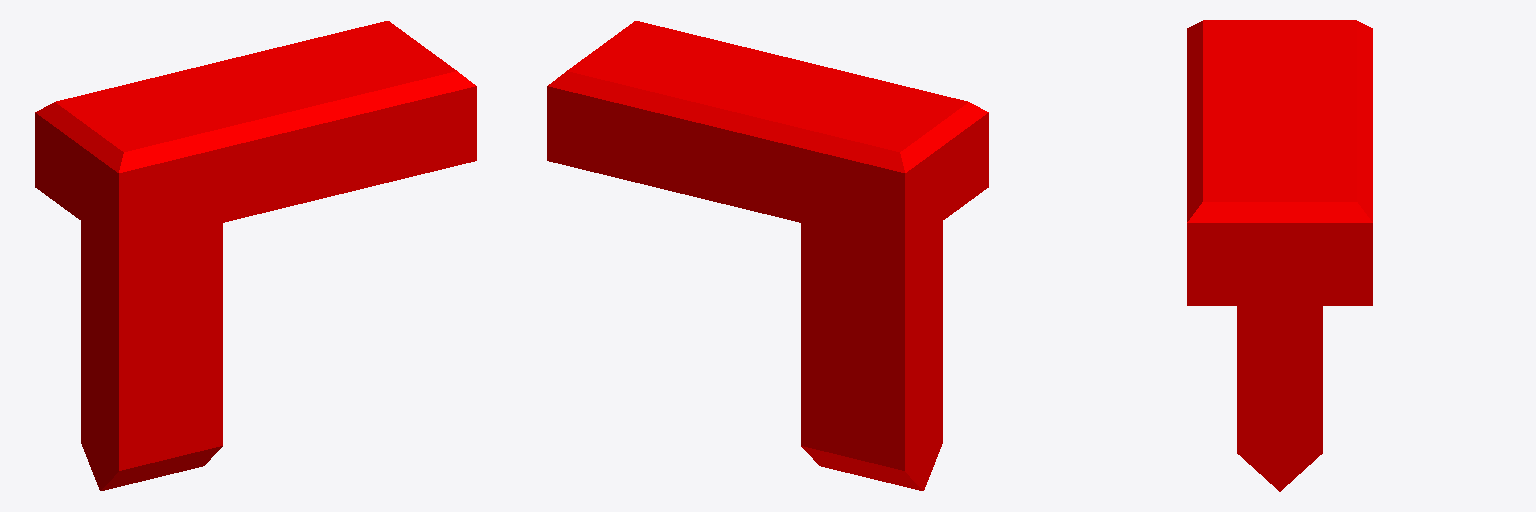
The robot description file, URDF, robot "myTestRobot_simple_gazebo":
<?xml version="1.0"?>
<robot name="myTestRobot_simple_gazebo">
	<link name ="base_waist">
            <inertial>
		    <origin xyz="0 0 0" rpy="0 0 0"/>
	                      <mass value="1.0"/>
	                    <inertia ixx="1.0" ixy="0.0" ixz="0.0" iyy="1.0" iyz="0.0" izz="1.0"/>
              </inertial>
	      <visual>
		            <geometry>
				                  <mesh filename="package://testrobot_control/mesh/robot_waist.stl"/>
						        </geometry>
							      <origin xyz="0 0 0" rpy="0 0 0"/>
							             <material name = "red">
									            <color rgba="1.0 0.0 0.0 2.0"/>
										          </material>
											      </visual>
    <collision>
                                <geometry>
					<mesh filename="package://testrobot_control/mesh/robot_waist.stl"/>	
				</geometry>
  </collision>
										      </link>

    <gazebo reference="base_waist">
	    <material>Gazebo/Gray</material>
	    <mu1 value="0.5" />
	    <mu2 value="0.5" />
    </gazebo>


     <joint name="upperLegL_joint" type="revolute">
     <parent link="base_waist"/>
     <child link="upperLegL"/>
     <origin xyz="-0.072 0 0" rpy="0 0 0"/>
     <axis xyz="1 0 0" />
     <limit lower="-1.57" upper="1.57" effort="10000" velocity="0.5"/>
     </joint>

     <transmission name="upperLegL_tran">
	     <type>transmission_interface/SimpleTransmission</type>
	         <joint name="upperLegL_joint">
	 <!--hardwareInterface>hardware_interface/PositionJointInterface</hardwareInterface-->
 <hardwareInterface>hardware_interface/EffortJointInterface</hardwareInterface>				   
	</joint>
				   <actuator name="upperLegL_motor">
					   <!--hardwareInterface>PositionJointInterface</hardwareInterface-->
		<hardwareInterface>EffortJointInterface</hardwareInterface>
       <mechanismReduction>1</mechanismReduction>
      </actuator>
      </transmission>

      <link name ="upperLegL">
	         <inertial>
			 <origin xyz="0 0 0" rpy="0 0 0"/>
					                 <mass value="0.1"/>
							                 <inertia ixx="1.0" ixy="0.0" ixz="0.0" iyy="1.0" iyz="0.0" izz="1.0"/>
									         </inertial>


	      <visual>
      <geometry>
	      <mesh filename="package://testrobot_control/mesh/leg.stl"/>
      </geometry>
      <origin xyz="0 0 0" rpy="0 0 0"/>
       <material name = "red">
       <color rgba="1.0 0.0 0.0 2.0"/>
      </material>
    </visual>

    <collision>  
	    <geometry> 
		    <mesh filename="package://testrobot_control/mesh/leg.stl"/> 
    </geometry>   
    </collision> 
    </link>

    <gazebo reference="upperLegL">
	    <material>Gazebo/Gray</material>
	    <mu1 value="0.5"/>
	    <mu2 value="0.5"/>
   </gazebo>	
   <gazebo> 
	   <plugin name="gazebo_ros_control" filename="libgazebo_ros_control.so">
		   <robotNamespace>/myTestRobot_simple_gazebo</robotNamespace>
			   </plugin>
   </gazebo>   
</robot>

--- What the picture shows (computed from the rendered views, not written in the file) ---
Views: 3 orthographic renders of the robot side by side, from view 1: azimuth 30°, elevation 25°; view 2: azimuth 150°, elevation 25°; view 3: azimuth 270°, elevation 25°.
Robot: myTestRobot_simple_gazebo — 2 links, 1 joints (1 revolute); root link base_waist; default pose: every joint at zero.
Links seen in each view (by area): view 1: base_waist, upperLegL; view 2: base_waist, upperLegL; view 3: base_waist, upperLegL.
Boxes of the visible links, box(x1,y1,x2,y2) form: base_waist: box(35, 21, 476, 247); upperLegL: box(81, 221, 222, 490); base_waist: box(547, 21, 988, 247); upperLegL: box(801, 221, 942, 490); base_waist: box(1187, 20, 1372, 305); upperLegL: box(1237, 306, 1322, 491).
Size in the robot's own frame: 0.2482 by 0.1 by 0.243 metres.
2 mesh visuals loaded from 2 distinct referenced files (2 binary STL).